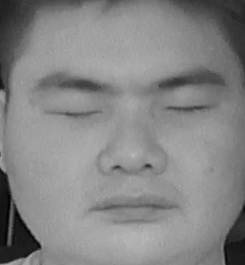blink: (46, 92, 101, 131), (167, 90, 217, 125)
mouth: (86, 184, 181, 227)
